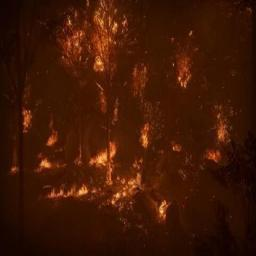Medium fire: (0, 0, 244, 245)
